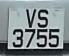3: (11, 27, 25, 49)
5: (47, 27, 61, 50), (36, 28, 49, 50)
7: (24, 28, 37, 48)
S: (36, 8, 50, 30)
V: (24, 8, 38, 29)
